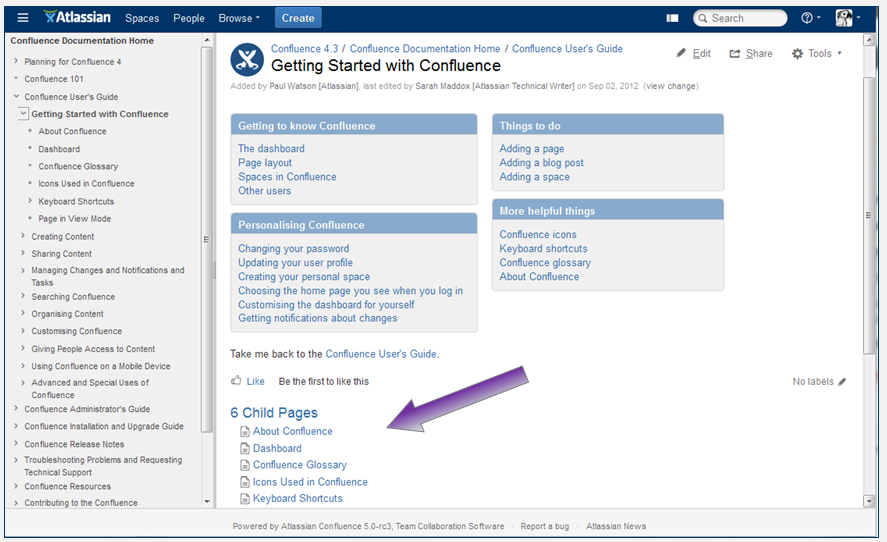button_create: (273, 6, 324, 29)
search_box: (693, 6, 791, 28)
